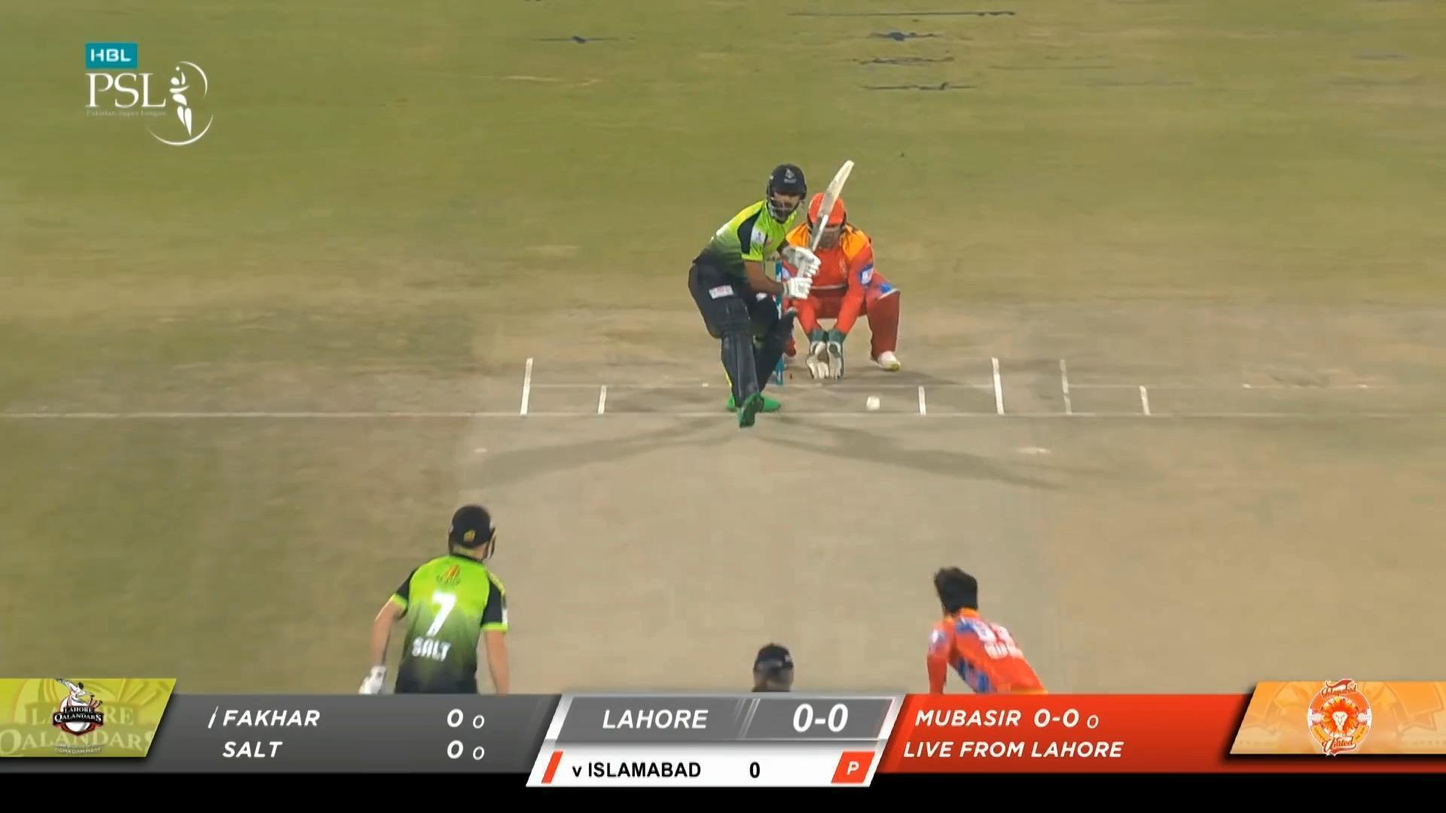BM 1: (685, 159, 858, 431)
BO: (922, 565, 1074, 813)
